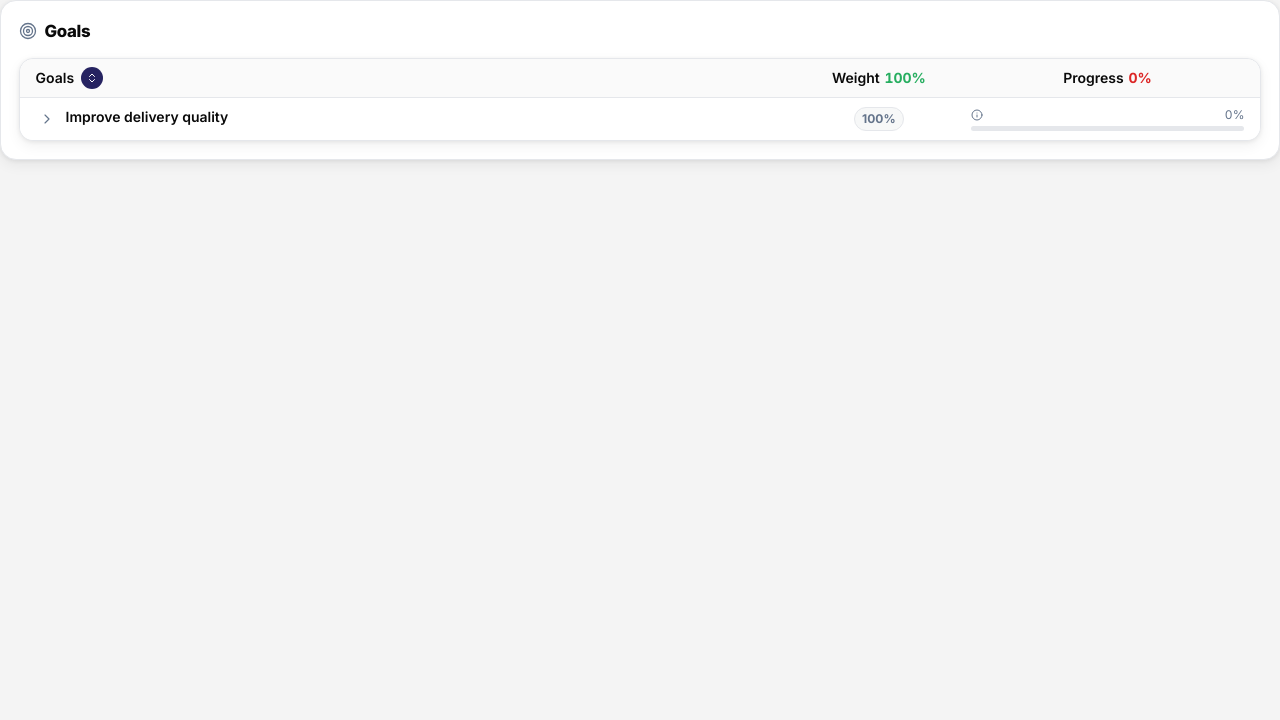
Scenario: ScorecardGoalsCard › opens the goal view window when a goal row is clicked
This screenshot has width=1280, height=720.
Click the text "Improve delivery quality": (147, 116) top-left (66, 108), bottom-right (228, 125)
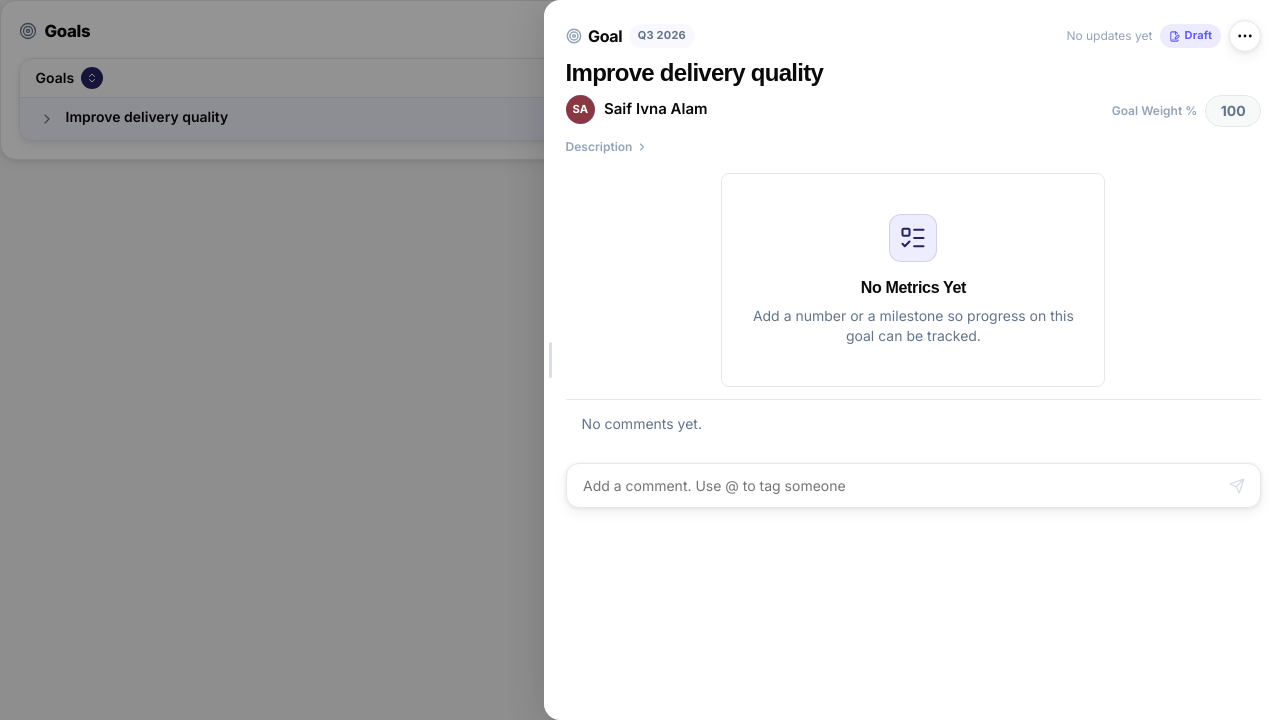
Expected: the dialog named "View Improve delivery quality" is shown, top-left (544, 0), bottom-right (1279, 719)
Expected: the dialog named "View Improve delivery quality" shows "Improve delivery quality", top-left (566, 59), bottom-right (823, 86)
